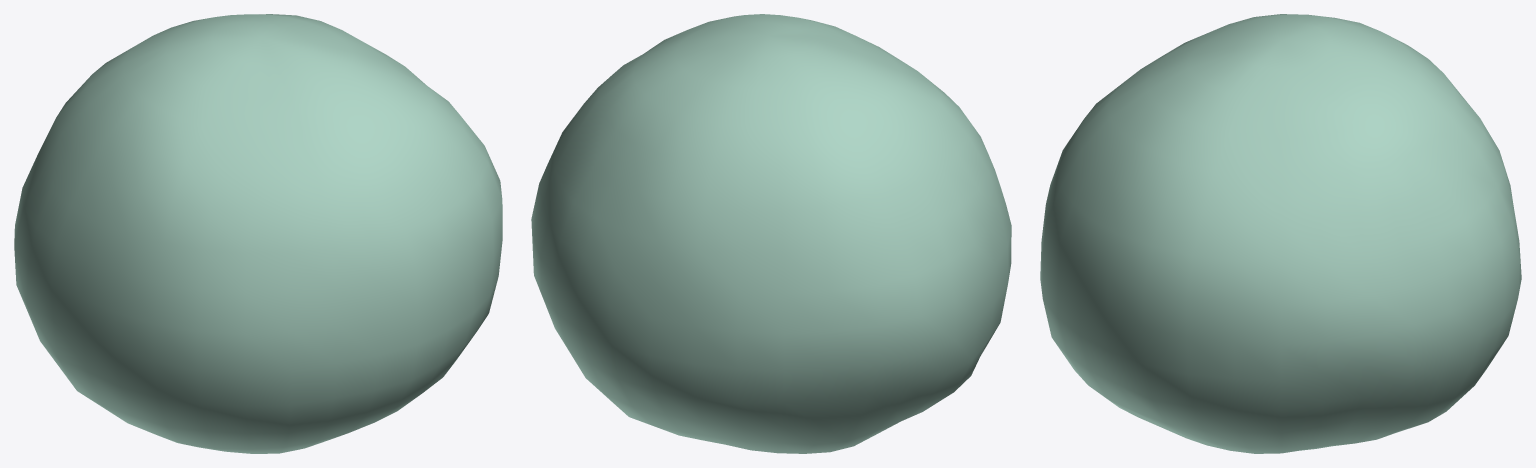
File: huroniospora_001.glb
The picture shows the model from 3 angles, left to right: view 1: azimuth 30°, elevation 25°; view 2: azimuth 150°, elevation 25°; view 3: azimuth 270°, elevation 25°; orthographic projection. The views are drawn at different scales.
Visible parts, largest first — view 1: huroniospora_wall; view 2: huroniospora_wall; view 3: huroniospora_wall.
Part boxes in pixels (box(x1,y1,x2,y2)): huroniospora_wall: box(14, 14, 502, 453); huroniospora_wall: box(531, 14, 1011, 453); huroniospora_wall: box(1040, 14, 1521, 453).
Size of the model in its own units: 11.01 by 9.66 by 10.73.
